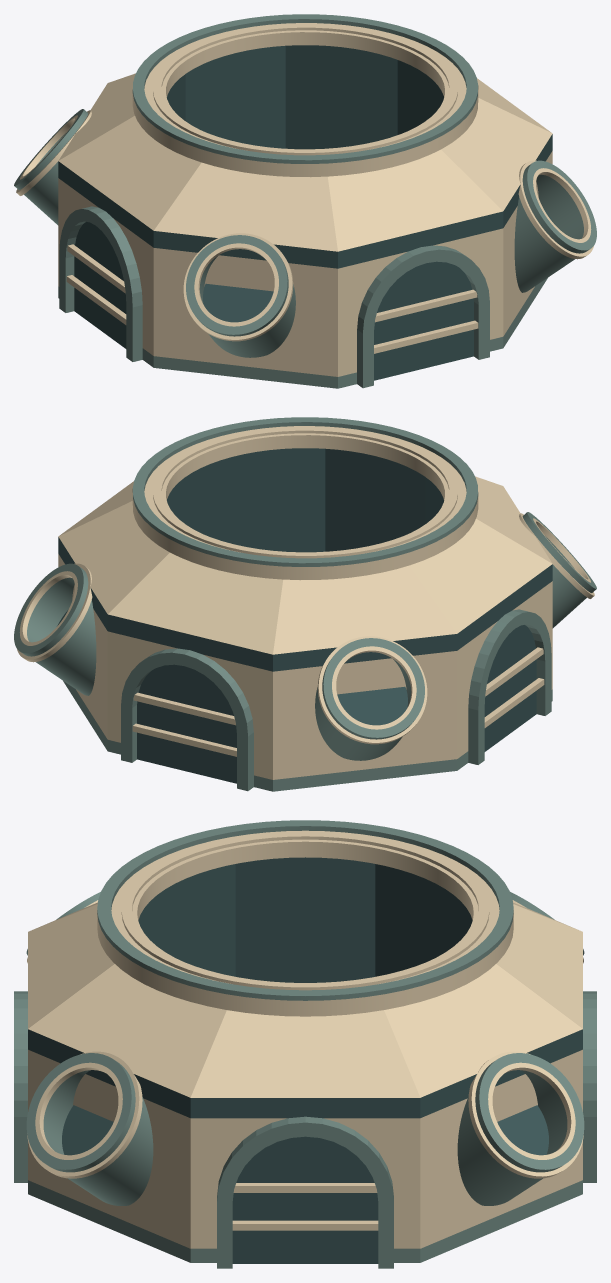
Rendered from Node_Base_Tilted.glb.
3 views of the same model, one above another, from view 1: azimuth 30°, elevation 25°; view 2: azimuth 150°, elevation 25°; view 3: azimuth 270°, elevation 25° (orthographic). The views are drawn at different scales.
Visible parts, largest first — view 1: Node_Base_Tilted; view 2: Node_Base_Tilted; view 3: Node_Base_Tilted.
Part boxes in pixels (box(x1,y1,x2,y2)): Node_Base_Tilted: box(14, 14, 596, 388); Node_Base_Tilted: box(14, 417, 596, 791); Node_Base_Tilted: box(14, 820, 596, 1268).
Bounding box in the file's own units: 3.36 × 1.51 × 3.36.
